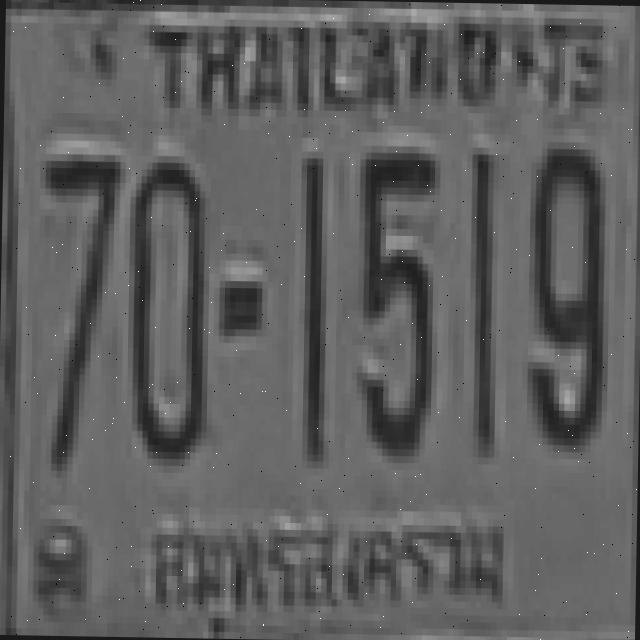0: (128, 155, 213, 459)
5: (353, 144, 441, 460)
7: (42, 150, 120, 480)
9: (523, 148, 608, 438)
SamutSongkhram: (141, 486, 521, 626)
